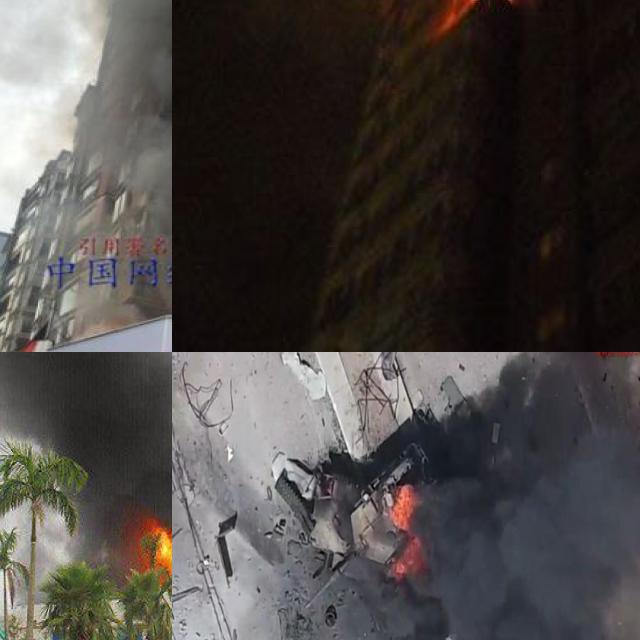fire: (386, 482, 425, 580), (138, 517, 172, 579)
smoke: (412, 352, 640, 640), (0, 0, 172, 318), (0, 352, 172, 537)
